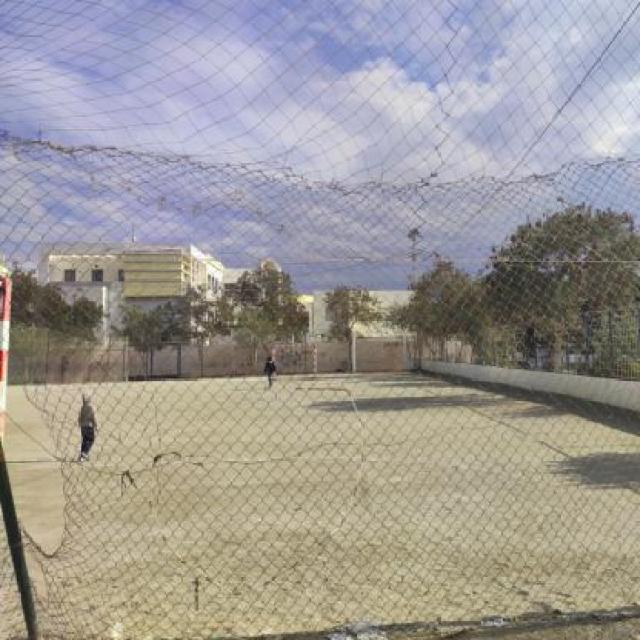fence line: (2, 370, 80, 584)
